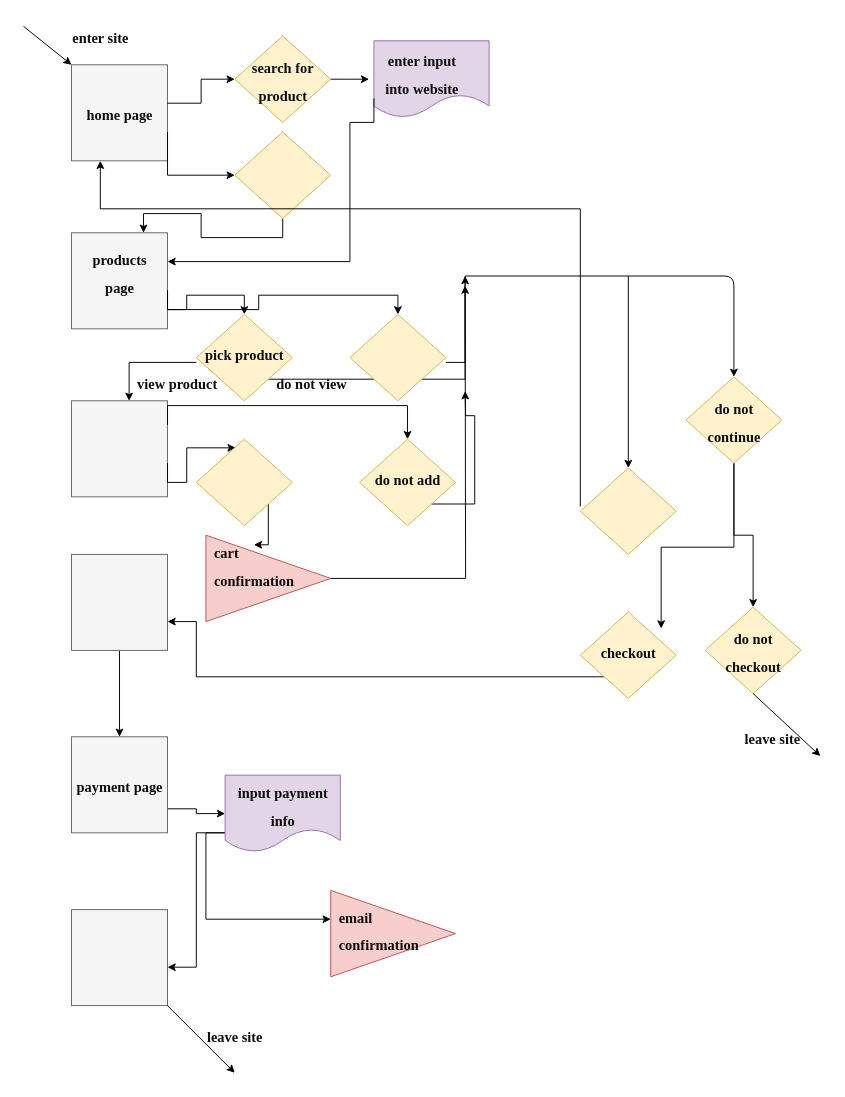
This 845x1097 diagram has some shape labels left out. Each missing label, with the centre of its shape:
add to cart: the point at 243,482
cart page: the point at 119,601
choose from explore: the point at 282,174
confirmation page: the point at 119,957
continue shopping: the point at 627,510
keep looking: the point at 397,357
product page: the point at 119,448
